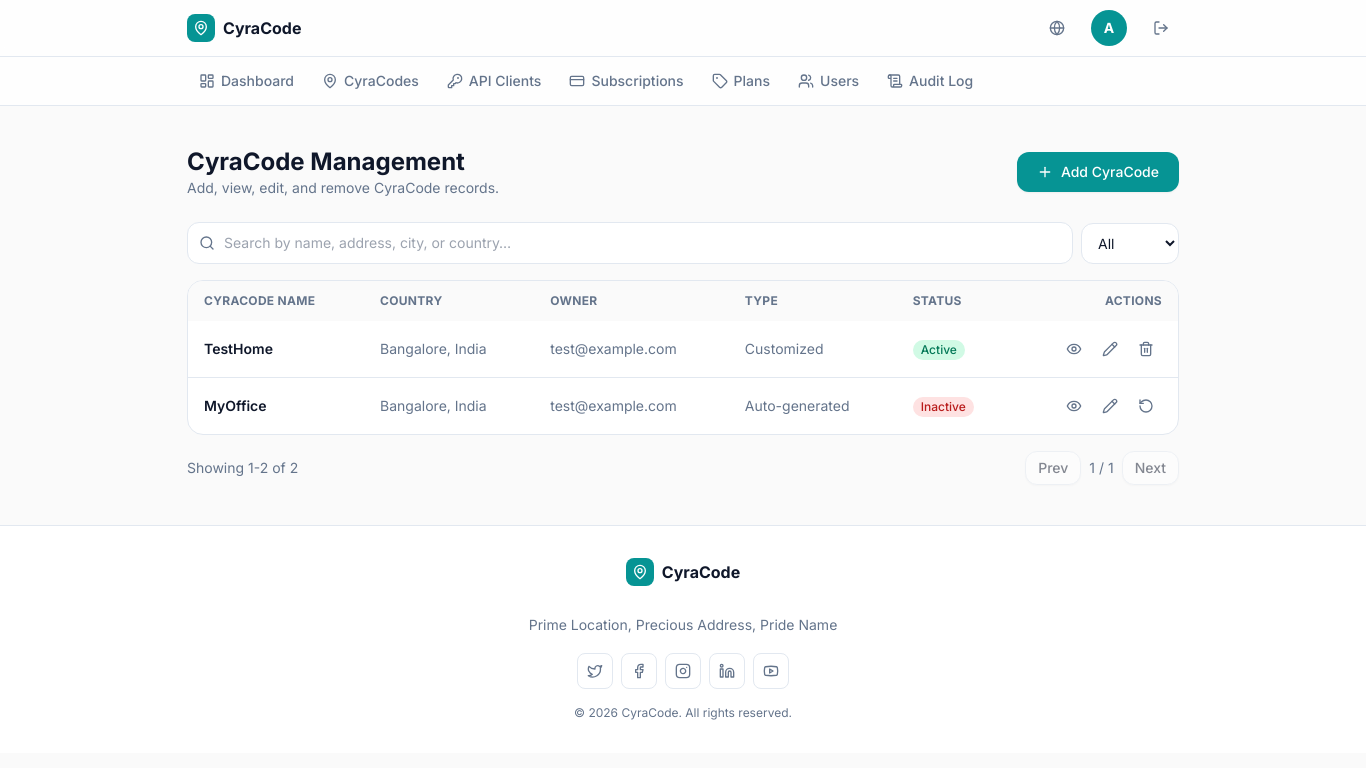
Test: AdminCyraCodes › filters by active status
The width and height of the screenshot is (1366, 768).
Expected: the text "TestHome" is shown, [188, 321, 364, 378]
Select "Inactive" in the dropdown named "filter by status" at (1130, 243), box [1081, 222, 1179, 264]
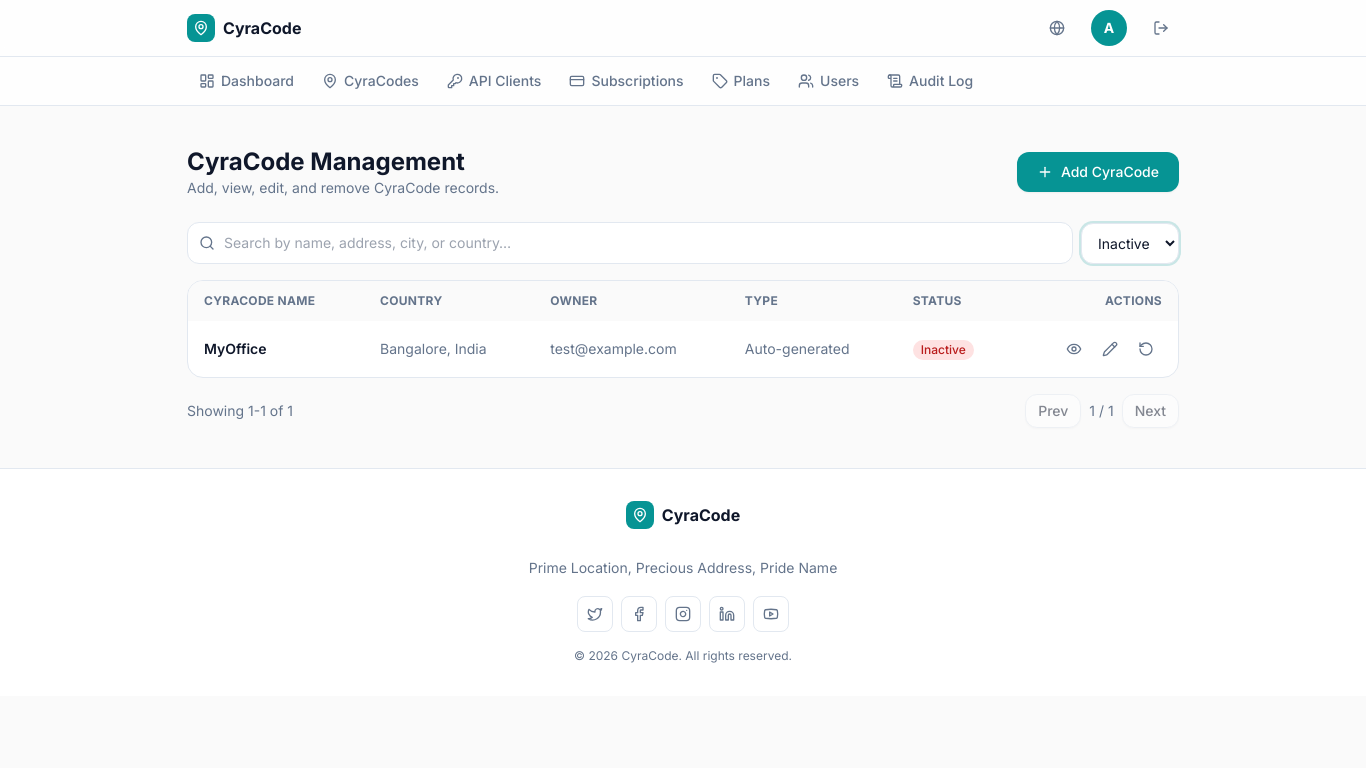
Expected: the text "MyOffice" is shown, [188, 321, 364, 377]
Result: the text "TestHome" is gone
